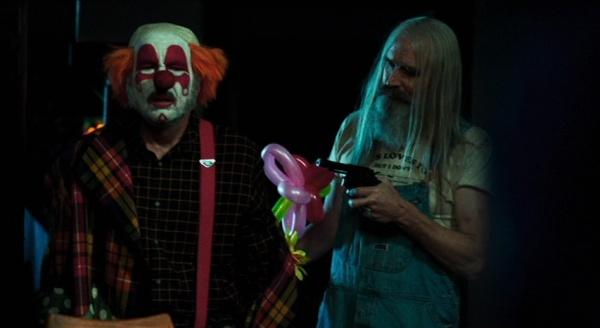Gun: (317, 157, 381, 189)
